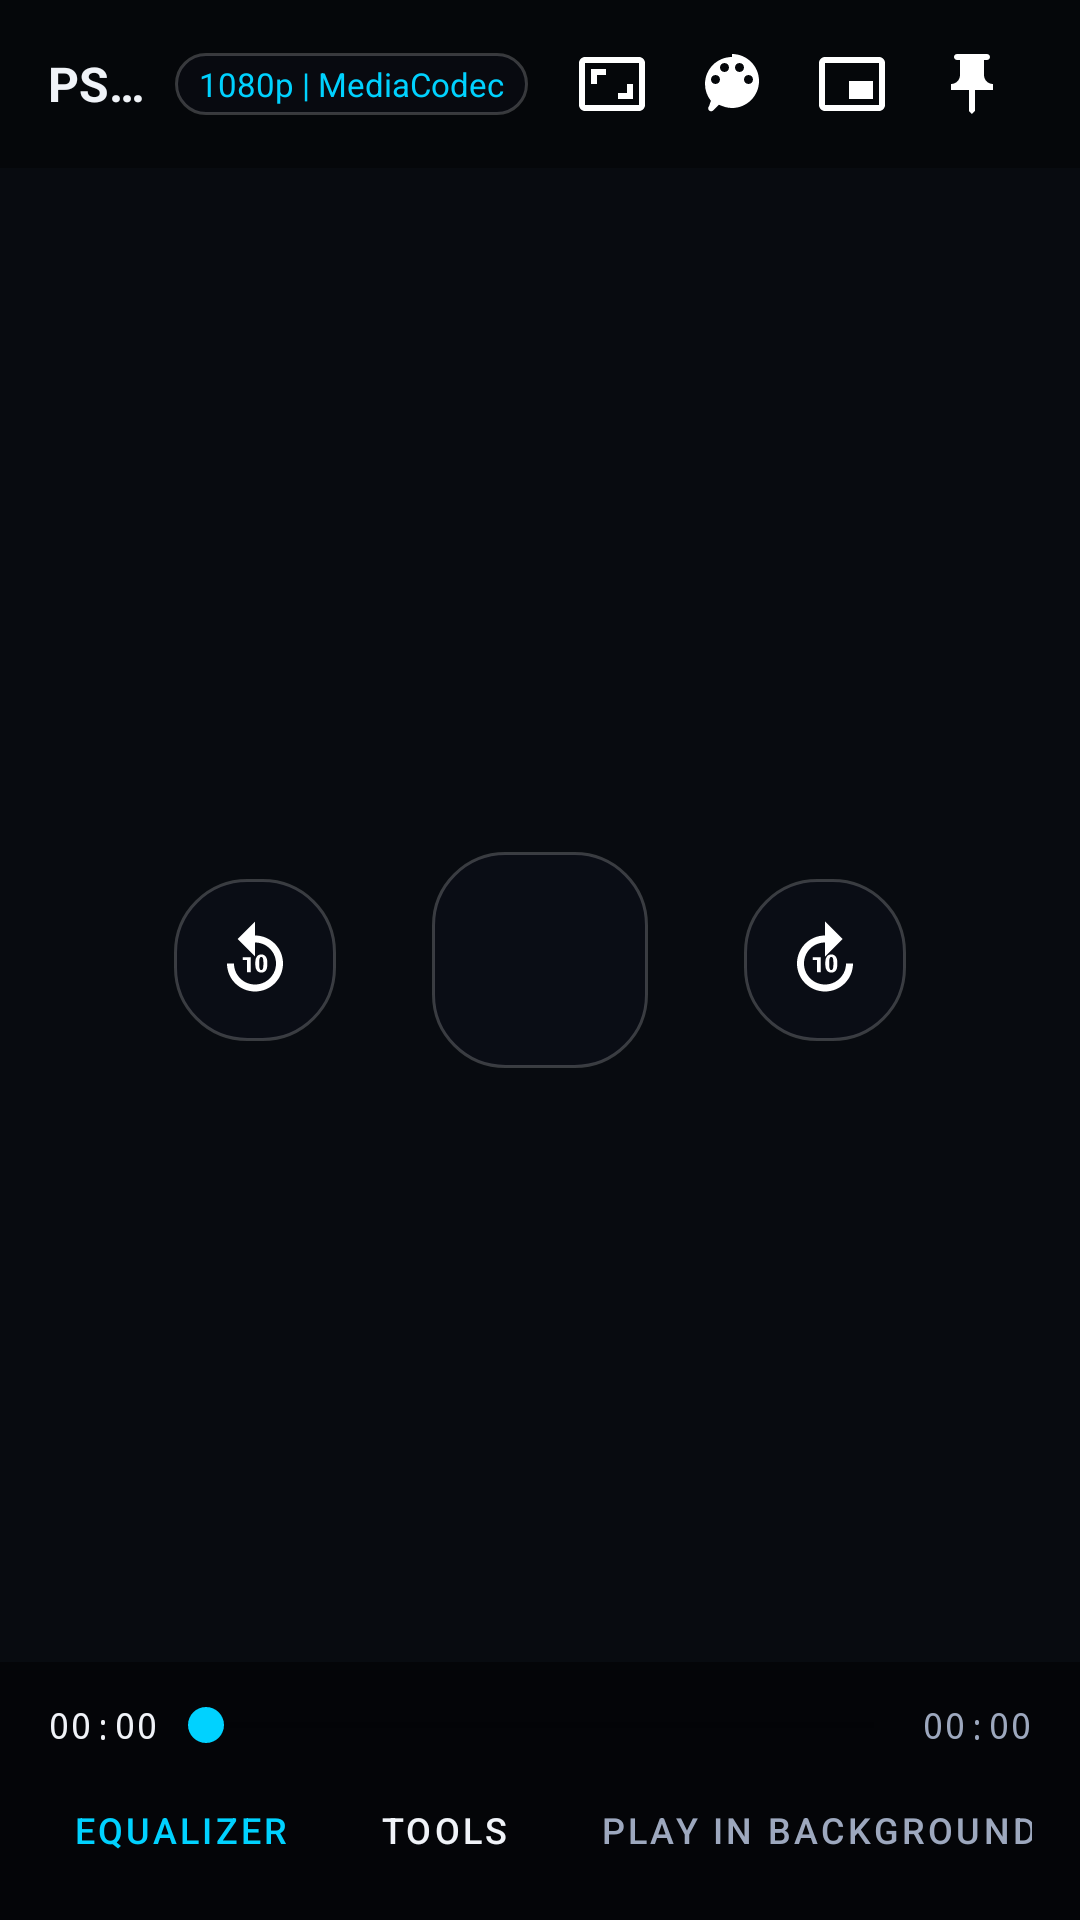

Point at icon controls on the screen. Image size 1080*1920, points as (x=x, y=y).
+10s: (x=825, y=960)
-10s: (x=255, y=960)
Aspect Ratio: (x=612, y=84)
Picture-in-Picture: (x=852, y=84)
Pin Controls: (x=972, y=84)
Themes: (x=732, y=83)
